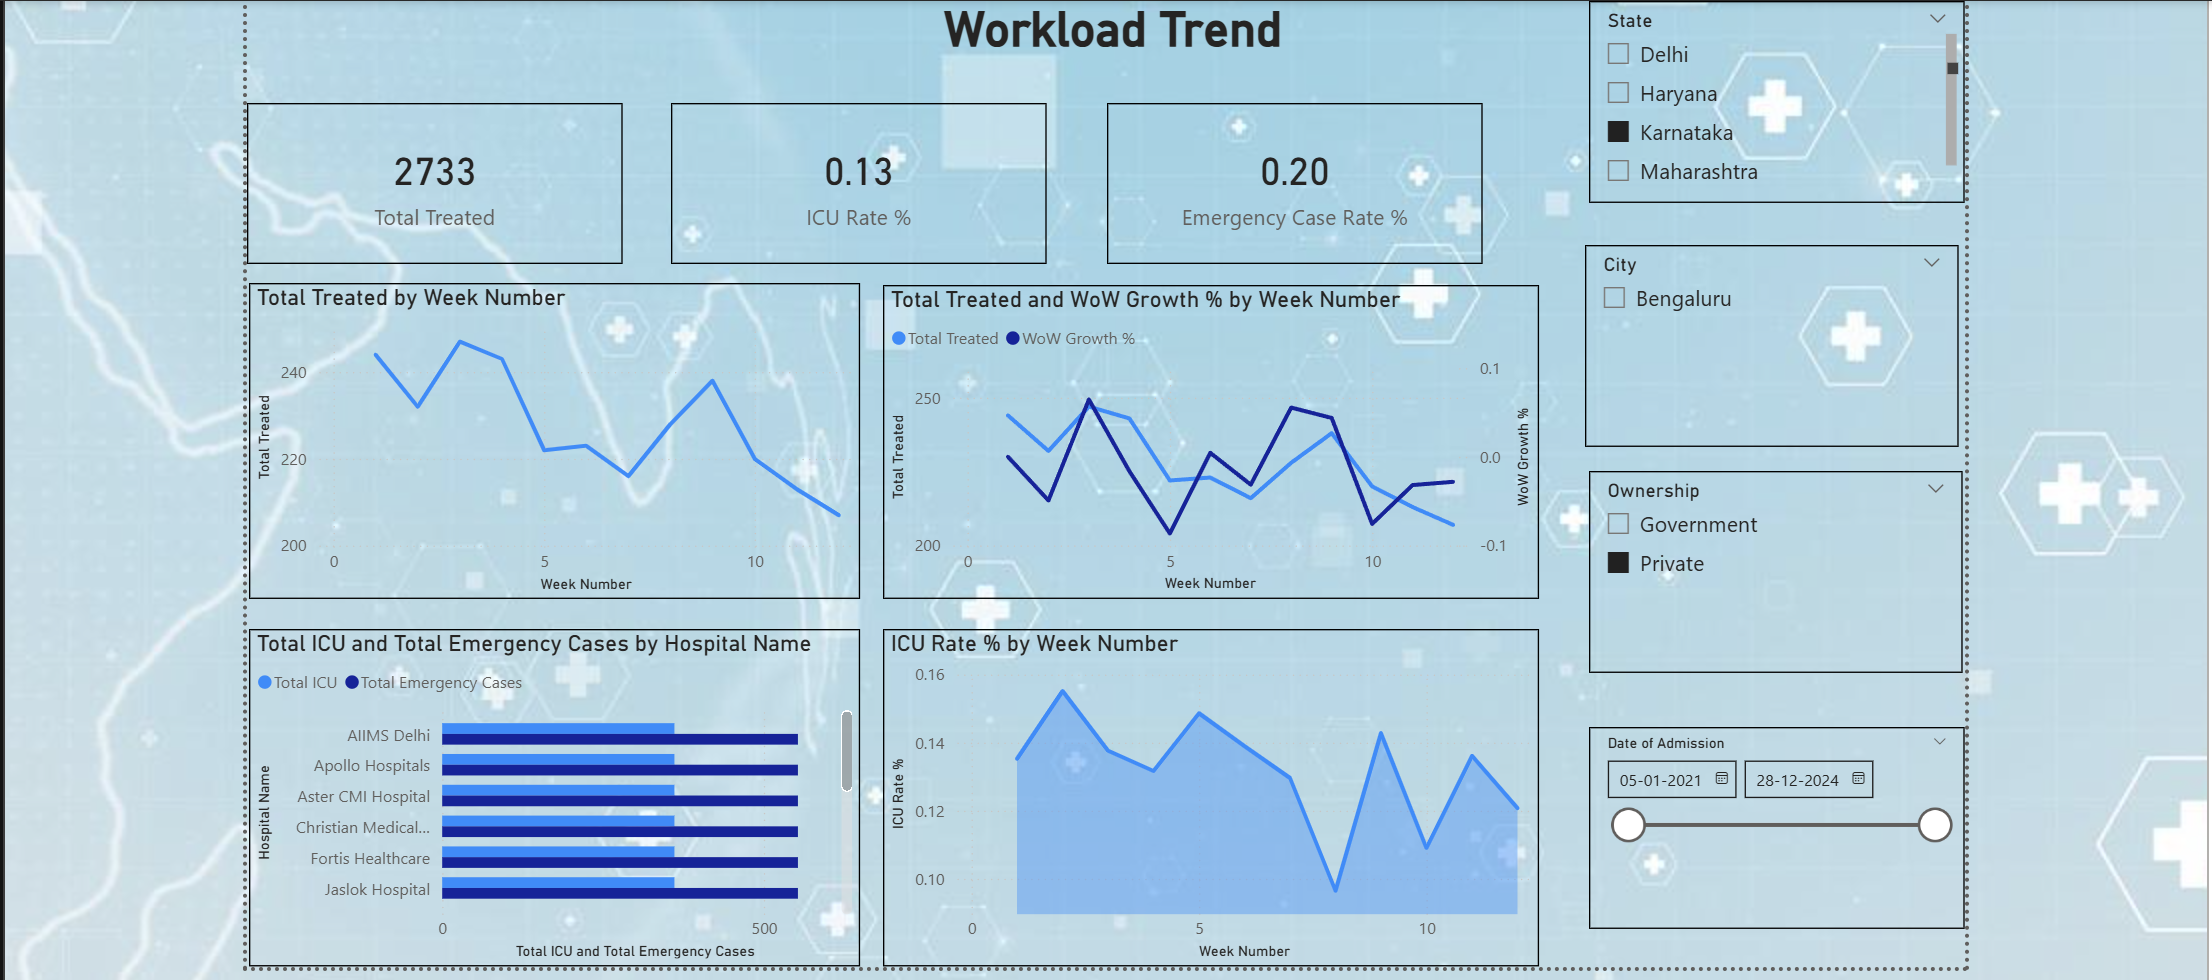

What the dashboard file says about the page in this screenshot:
{"tool":"powerbi","page":{"name":"Workload trends","canvas":[1280,720],"ordinal":5},"visuals":[{"type":"card","fields":{"Values":["1_Patient_Dataset.Total Treated"]},"box":[0,75.9,280,120.2],"z":0},{"type":"card","fields":{"Values":["1_Patient_Dataset.ICU Rate %"]},"box":[316.4,75.9,280,120.2],"z":1},{"type":"card","fields":{"Values":["1_Patient_Dataset.Emergency Case Rate %"]},"box":[640.8,75.9,280,120.2],"z":2},{"type":"lineChart","fields":{"Category":["4_Services_Workload.Week Number"],"Y":["1_Patient_Dataset.Total Treated"]},"box":[1.6,210.4,455.7,235.7],"z":3},{"type":"clusteredBarChart","fields":{"Category":["1_Patient_Dataset.Hospital Name"],"Y":["1_Patient_Dataset.Total ICU","1_Patient_Dataset.Total Emergency Cases"]},"box":[1.6,468.3,455.7,251.6],"z":4},{"type":"areaChart","fields":{"Category":["4_Services_Workload.Week Number"],"Y":["1_Patient_Dataset.ICU Rate %"]},"box":[474.7,468.3,488.9,251.6],"z":5},{"type":"lineChart","fields":{"Category":["4_Services_Workload.Week Number"],"Y":["1_Patient_Dataset.Total Treated"],"Y2":["1_Patient_Dataset.WoW Growth %"]},"box":[474.7,212,488.9,234.2],"z":7},{"type":"slicer","fields":{"Values":["2_Hospital_Info.State"]},"box":[1000,0,280,150.3],"z":8},{"type":"slicer","fields":{"Values":["2_Hospital_Info.City"]},"box":[996.8,182,278.5,150.3],"z":9},{"type":"slicer","fields":{"Values":["2_Hospital_Info.Ownership"]},"box":[1000,349.7,278.5,150.3],"z":10},{"type":"slicer","fields":{"Values":["1_Patient_Dataset.Date of Admission"]},"box":[1000,541.1,280,150.3],"z":11},{"type":"textbox","title":"Workload Trend","box":[9.9,0,1270.1,59.6],"z":12}]}

Visuals, with their boxes on the page's 1280x720 design canvas (x1, y1, x2, y2). These are canvas units, not pixel positions in the 2212x980 screenshot, which may show the page scaled, cropped or inside an application window:
card - 1_Patient_Dataset.Total Treated: 0/76/280/196
card - 1_Patient_Dataset.ICU Rate %: 316/76/596/196
card - 1_Patient_Dataset.Emergency Case Rate %: 641/76/921/196
lineChart - 4_Services_Workload.Week Number x 1_Patient_Dataset.Total Treated: 2/210/457/446
clusteredBarChart - 1_Patient_Dataset.Hospital Name x 1_Patient_Dataset.Total ICU: 2/468/457/720
areaChart - 4_Services_Workload.Week Number x 1_Patient_Dataset.ICU Rate %: 475/468/964/720
lineChart - 4_Services_Workload.Week Number x 1_Patient_Dataset.Total Treated: 475/212/964/446
slicer - 2_Hospital_Info.State: 1000/0/1280/150
slicer - 2_Hospital_Info.City: 997/182/1275/332
slicer - 2_Hospital_Info.Ownership: 1000/350/1278/500
slicer - 1_Patient_Dataset.Date of Admission: 1000/541/1280/691
"Workload Trend" textbox: 10/0/1280/60
